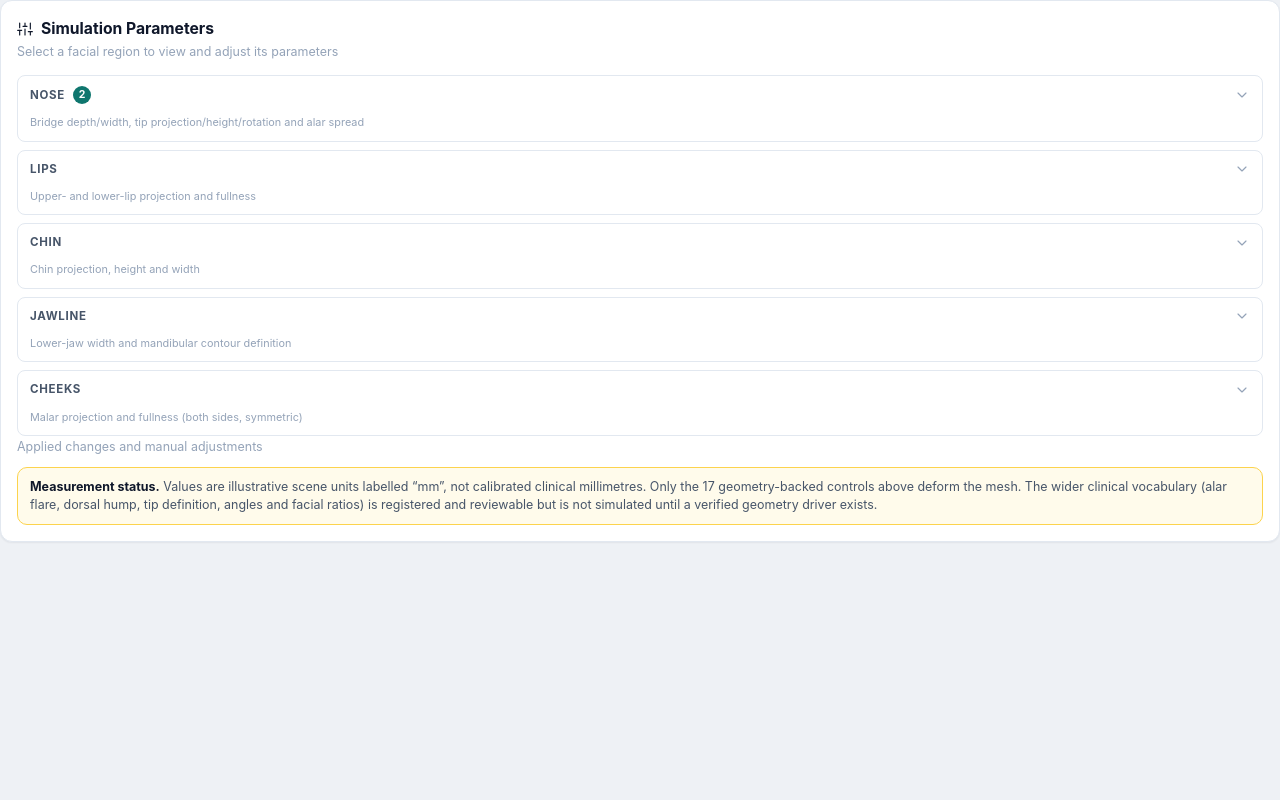
ParameterPanel › shows the current value with the correct unit
This screenshot has width=1280, height=800.
Click the button "Nose 2" at (47, 95), box [18,76,1262,114]
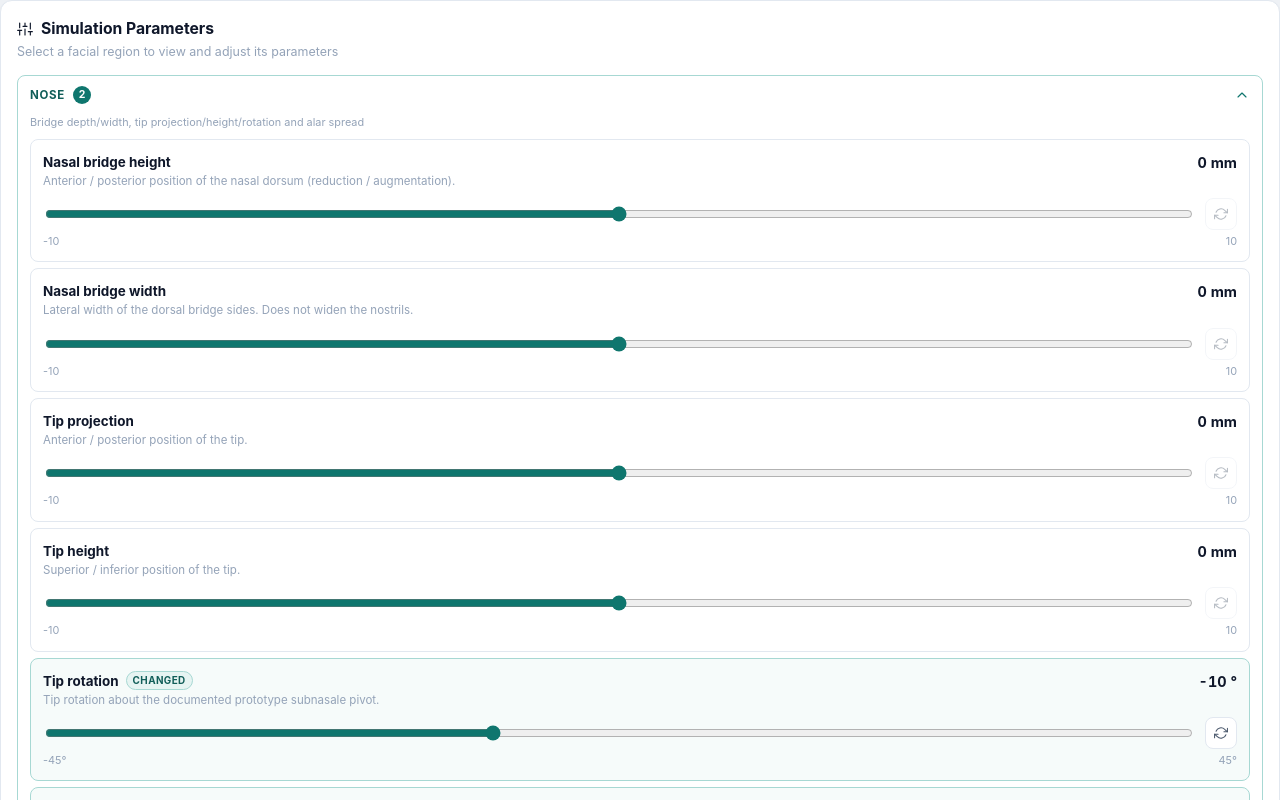
Now the text "-10 °" is shown, box [1199,670,1237,692]
